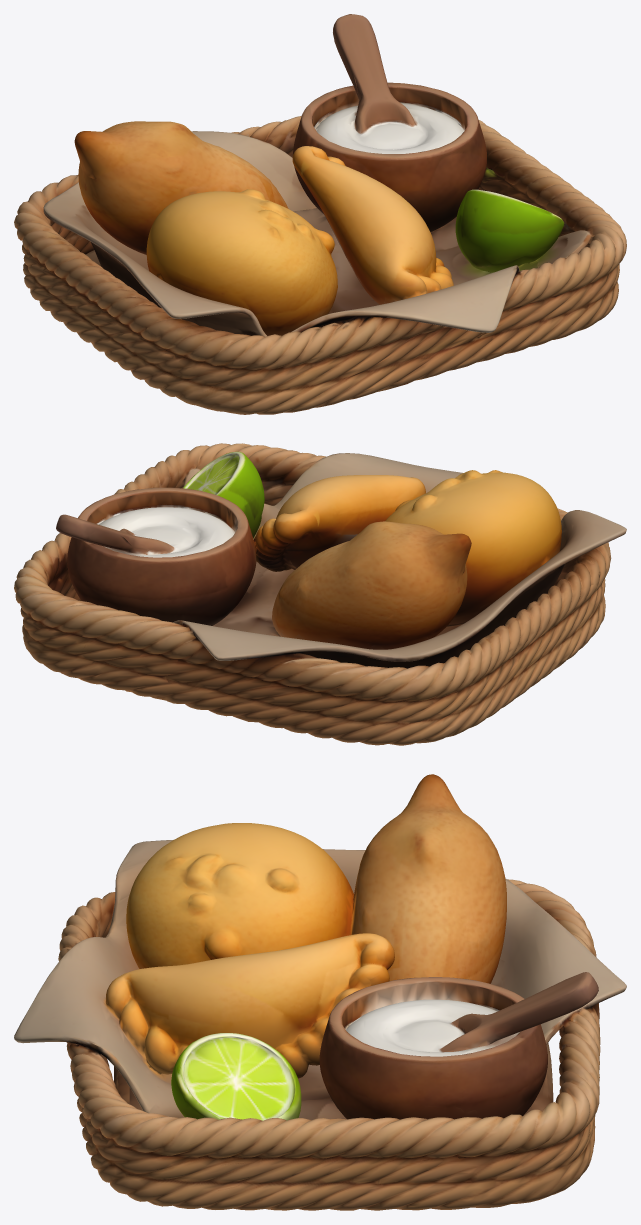
The model's file is Bandeja de Fritos.fbx.
The picture shows the model from 3 angles, top to bottom: view 1: azimuth 30°, elevation 25°; view 2: azimuth 150°, elevation 25°; view 3: azimuth 270°, elevation 25°; orthographic projection. The views are drawn at different scales.
Visible parts, largest first — view 1: Mesh_0; view 2: Mesh_0; view 3: Mesh_0.
Boxes of the visible parts, left/top/right/bottom form: Mesh_0: left=14, top=14, right=626, bottom=414; Mesh_0: left=14, top=443, right=626, bottom=745; Mesh_0: left=14, top=774, right=626, bottom=1210.
Size of the model in its own units: 99.71 by 37.12 by 99.45.
1 material, 1 textured.
